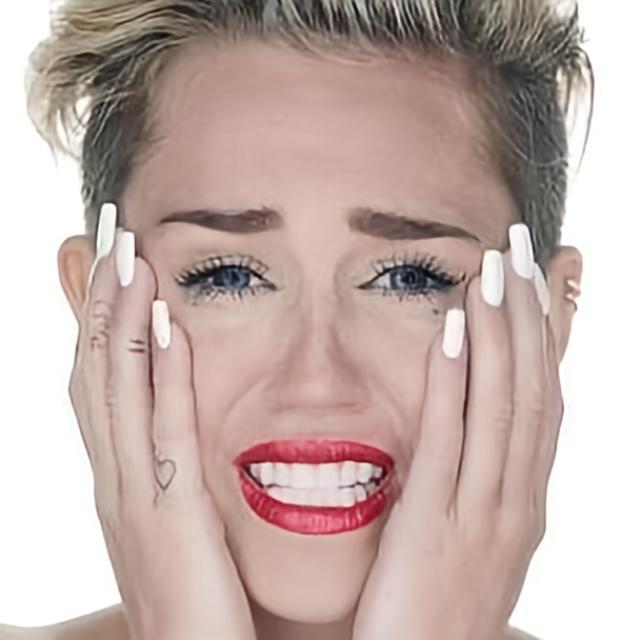fear: (121, 27, 525, 624)
